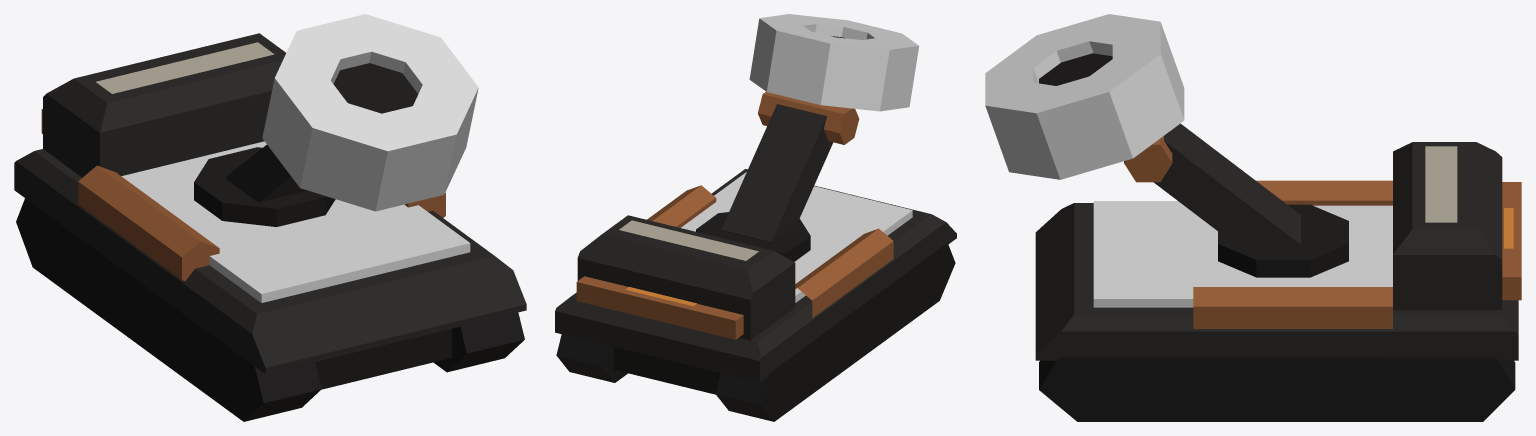
Rendered from lnd_t1_arty.acbe91b3.raw.glb.
3 views of the same model, side by side, from view 1: azimuth 30°, elevation 25°; view 2: azimuth 150°, elevation 25°; view 3: azimuth 270°, elevation 25° (orthographic). The views are drawn at different scales.
Parts seen in each view (by area): view 1: lod0; view 2: lod0; view 3: lod0.
Boxes of the visible parts, bbox=[...] form: lod0: bbox=[14, 14, 526, 421]; lod0: bbox=[555, 14, 956, 421]; lod0: bbox=[985, 14, 1521, 421].
Size of what is drawn, in the model's own units: 0.9099 by 1.11 by 1.67.
